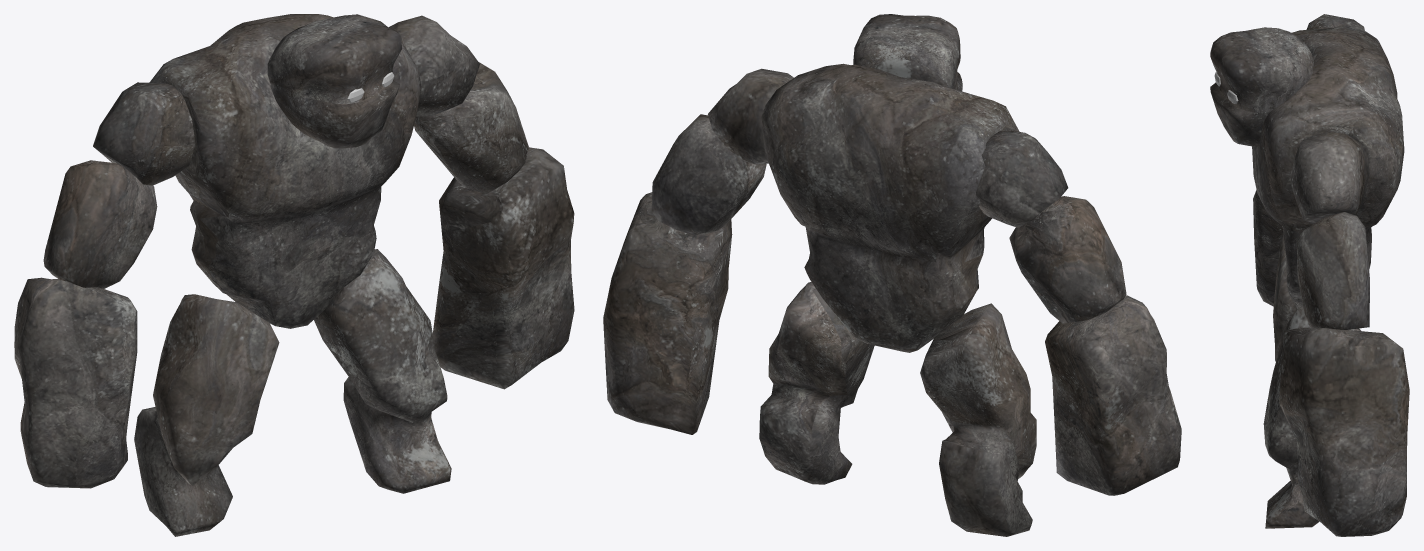
Rendered from walk_000018.obj.
The picture shows the model from 3 angles, left to right: view 1: azimuth 30°, elevation 25°; view 2: azimuth 150°, elevation 25°; view 3: azimuth 270°, elevation 25°; orthographic projection. The views are drawn at different scales.
Parts seen in each view (by area): view 1: hands&leg.001_ice.003, torso.001_ice.005, head.001_ice.004; view 2: hands&leg.001_ice.003, torso.001_ice.005, head.001_ice.004; view 3: hands&leg.001_ice.003, torso.001_ice.005, head.001_ice.004.
Boxes of the visible parts, box(x1,y1,x2,y2) form: hands&leg.001_ice.003: box(14, 15, 574, 536); torso.001_ice.005: box(149, 14, 421, 328); head.001_ice.004: box(267, 16, 402, 148); hands&leg.001_ice.003: box(603, 68, 1181, 536); torso.001_ice.005: box(761, 63, 1019, 352); head.001_ice.004: box(853, 14, 962, 91); hands&leg.001_ice.003: box(1253, 14, 1409, 536); torso.001_ice.005: box(1252, 25, 1404, 309); head.001_ice.004: box(1210, 27, 1313, 146).
Size of the model in its own units: 11.75 by 9.58 by 3.88.
Materials: 2 (1 with a texture image).
